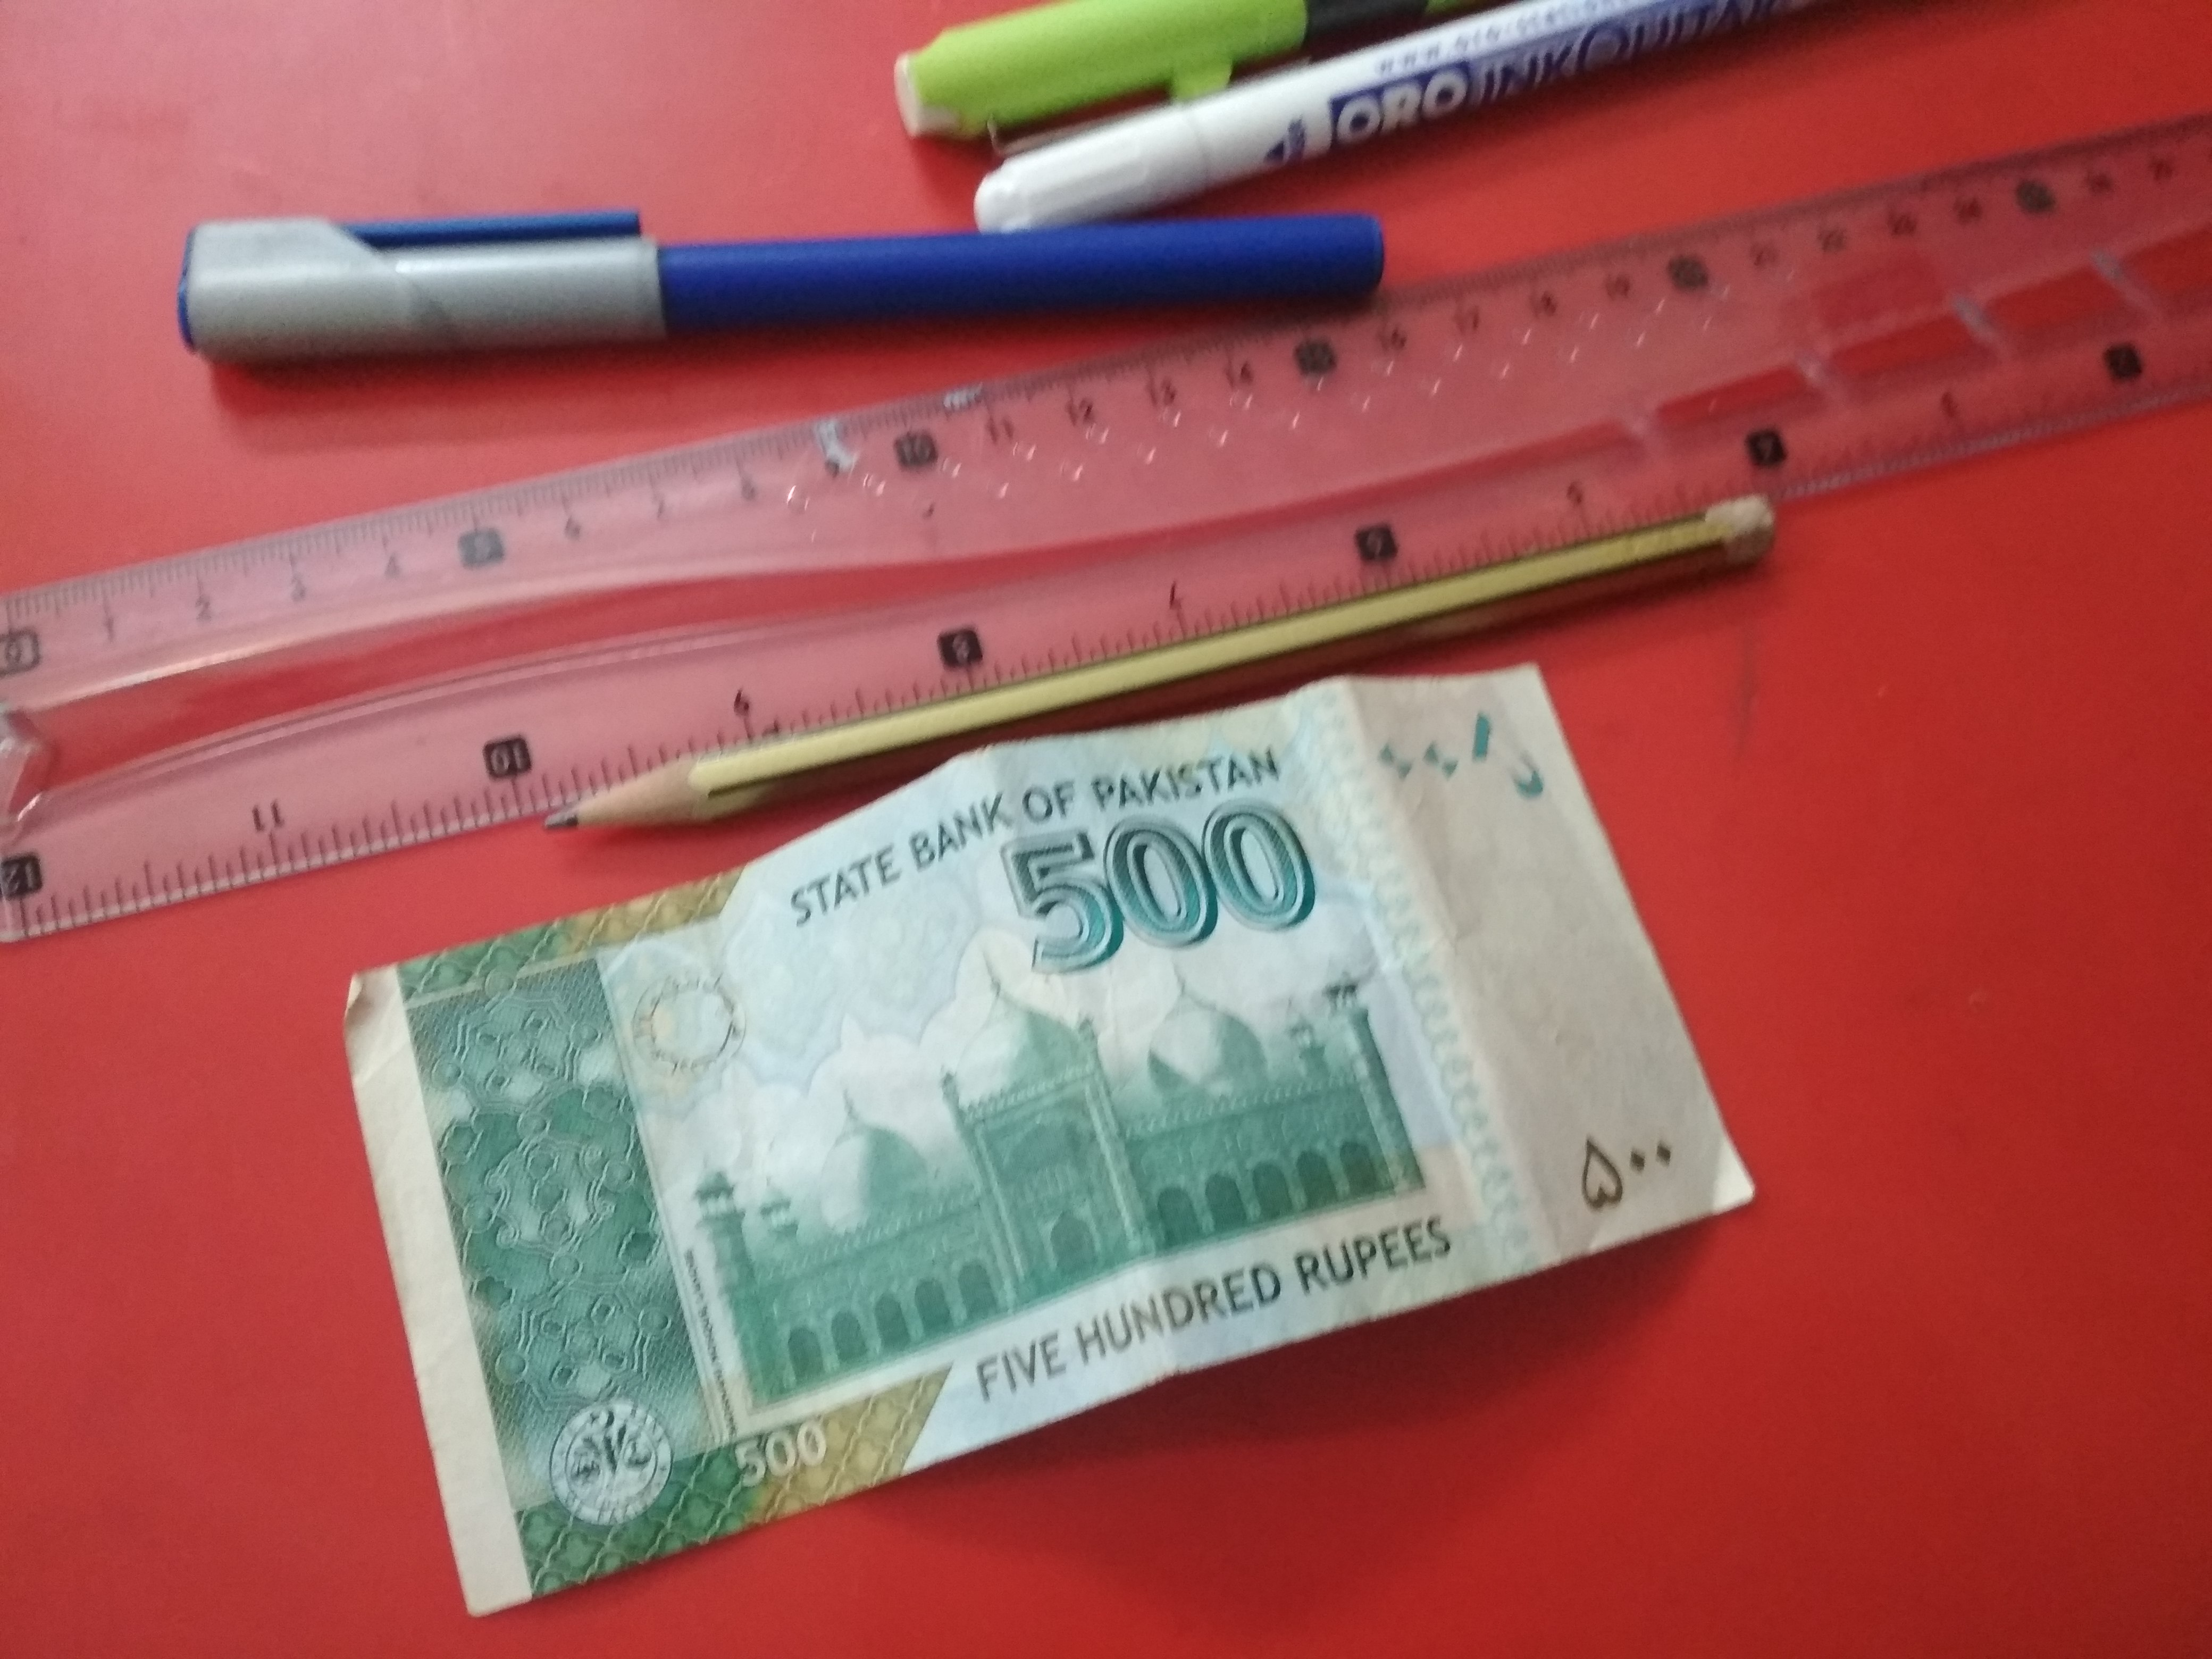500 rupee: (291, 640, 1829, 1628)
